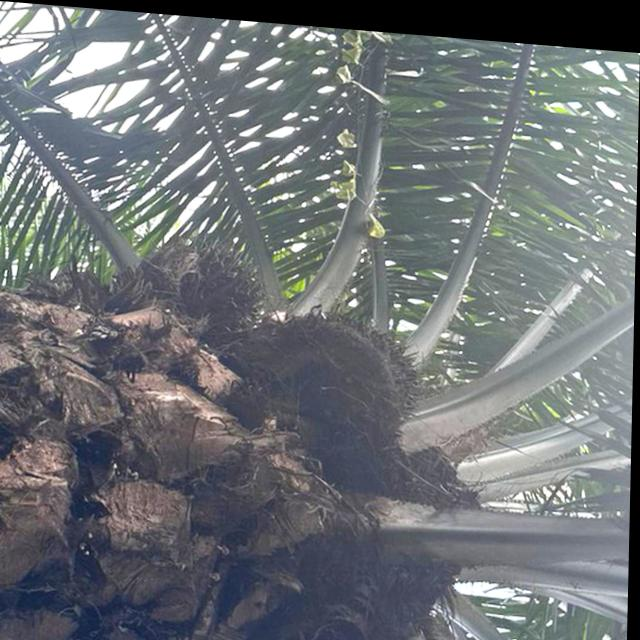unripe: (267, 290, 433, 425)
